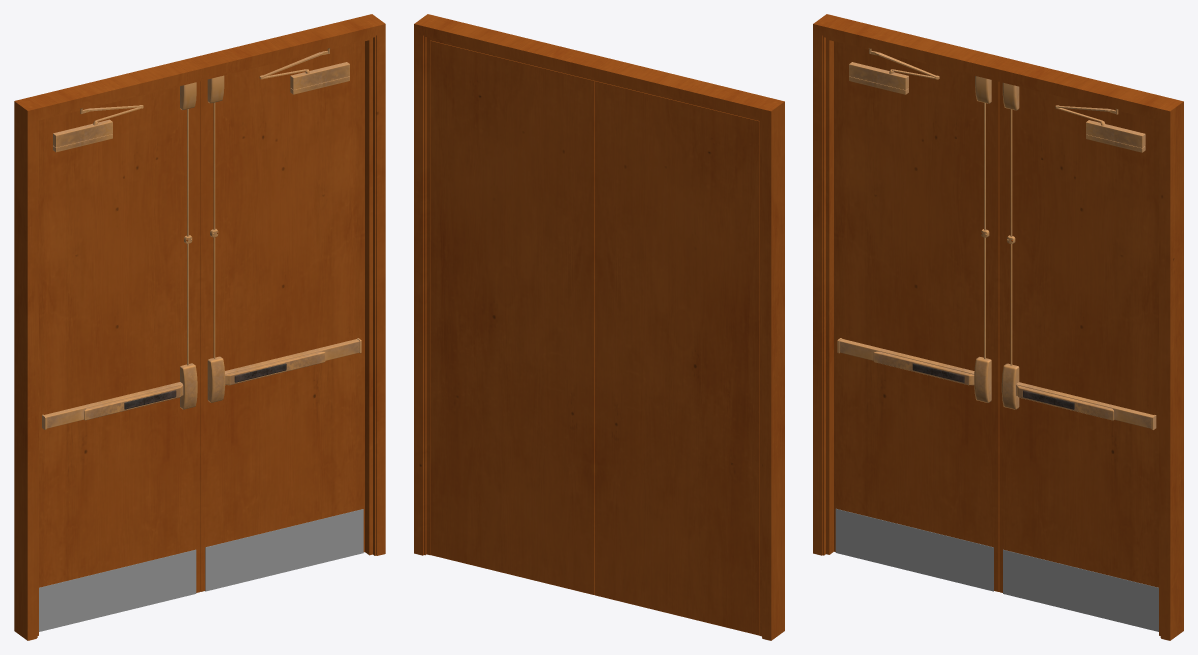
Rendered from Door.fbx.
3 views of the same model, side by side, from view 1: azimuth 30°, elevation 25°; view 2: azimuth 150°, elevation 25°; view 3: azimuth 330°, elevation 25° (orthographic).
Parts seen in each view (by area): view 1: Door; view 2: Door; view 3: Door.
Boxes of the visible parts, x1,y1,x2,y2 form: Door: (14,14,385,640); Door: (414,14,784,640); Door: (813,14,1183,640).
Bounding box in the file's own units: 194 × 275 × 13.12.
Materials: 1 (1 with a texture image).
